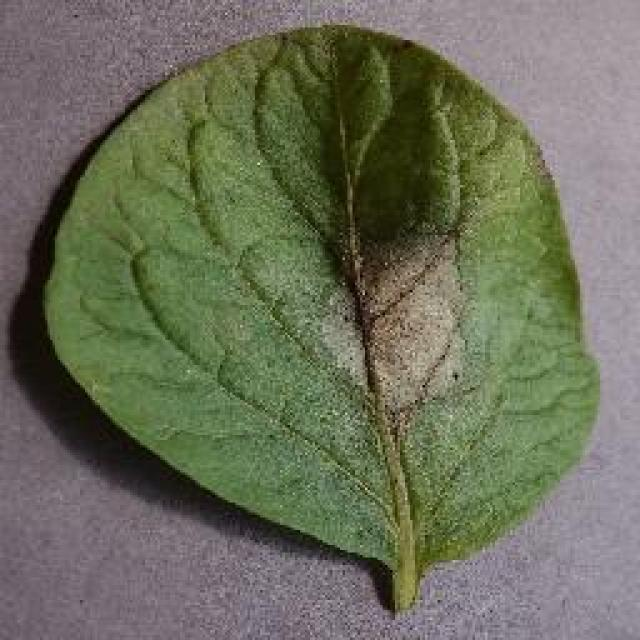late_blight: (37, 20, 605, 615)
